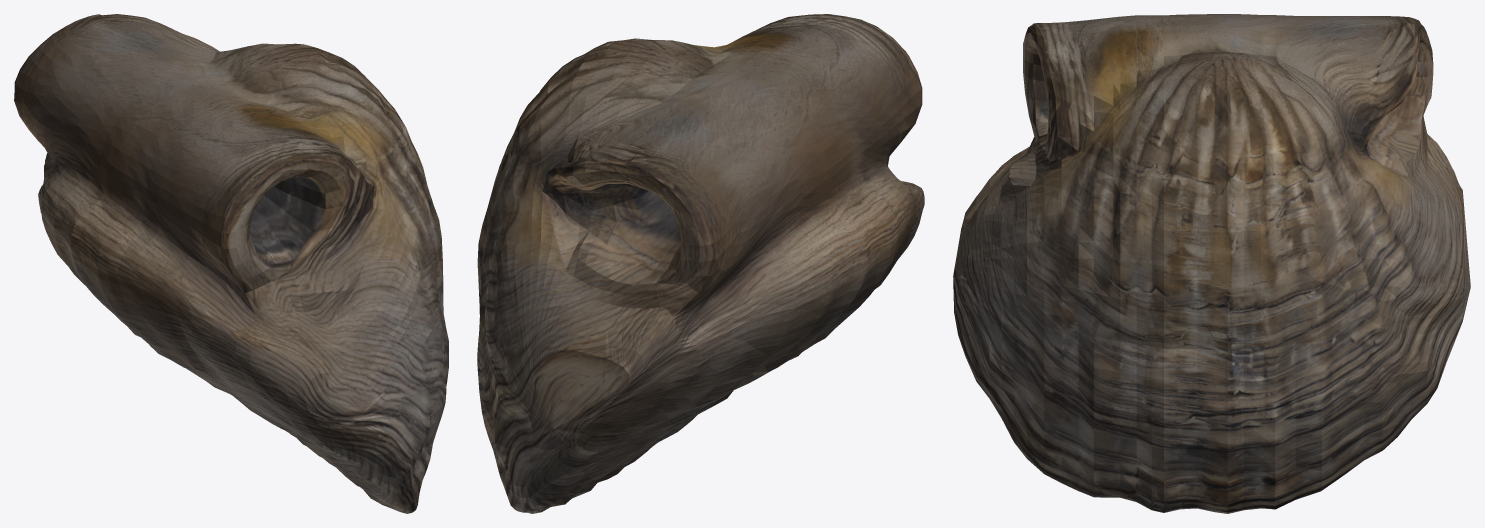
The model's file is takahashi_scallop_001.glb.
3 views of the same model, side by side, from view 1: azimuth 30°, elevation 25°; view 2: azimuth 150°, elevation 25°; view 3: azimuth 270°, elevation 25° (orthographic). The views are drawn at different scales.
Visible parts, largest first — view 1: tripo_node_38cc34c6-2ce3-48f8-a51f-8a095343e066; view 2: tripo_node_38cc34c6-2ce3-48f8-a51f-8a095343e066; view 3: tripo_node_38cc34c6-2ce3-48f8-a51f-8a095343e066.
Boxes of the visible parts, x1,y1,x2,y2 form: tripo_node_38cc34c6-2ce3-48f8-a51f-8a095343e066: (14, 14, 448, 513); tripo_node_38cc34c6-2ce3-48f8-a51f-8a095343e066: (477, 14, 924, 513); tripo_node_38cc34c6-2ce3-48f8-a51f-8a095343e066: (953, 14, 1470, 513).
Bounding box in the file's own units: 0.6843 × 0.8226 × 0.93.
Materials: 1 (1 with a texture image).
